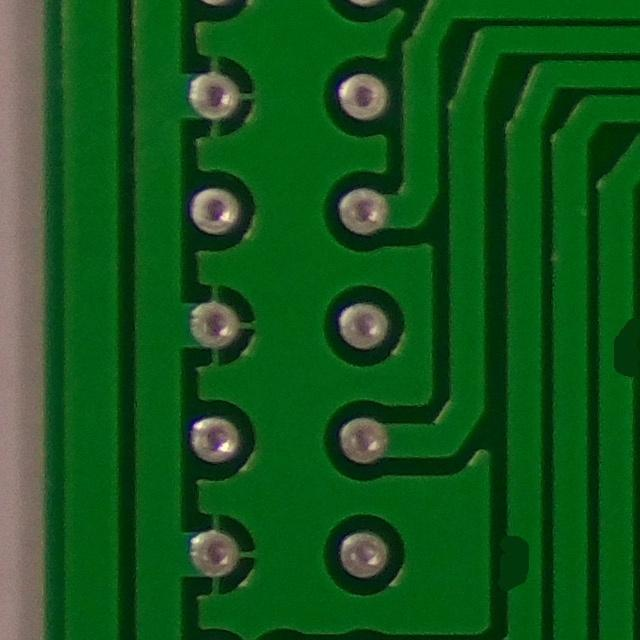mouse_bite: (488, 521, 542, 606), (591, 306, 640, 397)
